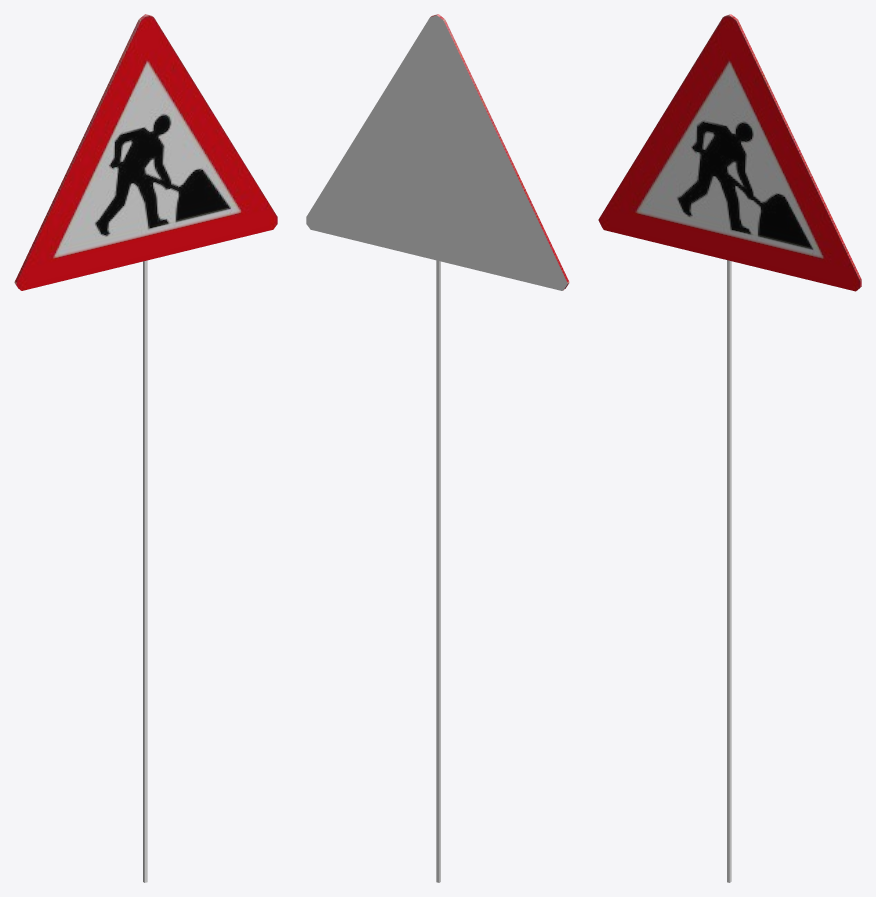
The model's file is trafik_levha_yol_calismasi.obj.
3 renders of one model, left to right at view 1: azimuth 30°, elevation 25°; view 2: azimuth 150°, elevation 25°; view 3: azimuth 330°, elevation 25°, orthographic.
Parts seen in each view (by area): view 1: Mesh2 Group1 Model, Mesh1 Group2 Group1 Model; view 2: Mesh2 Group1 Model, Mesh1 Group2 Group1 Model; view 3: Mesh2 Group1 Model, Mesh1 Group2 Group1 Model.
Part boxes in pixels (<box>): Mesh2 Group1 Model: <box>14,14,277,290</box>; Mesh1 Group2 Group1 Model: <box>143,260,147,882</box>; Mesh2 Group1 Model: <box>306,14,569,290</box>; Mesh1 Group2 Group1 Model: <box>436,260,440,882</box>; Mesh2 Group1 Model: <box>598,14,861,291</box>; Mesh1 Group2 Group1 Model: <box>727,260,731,882</box>.
Bounding box in the file's own units: 880 × 2789 × 10.
2 materials, 1 textured.
